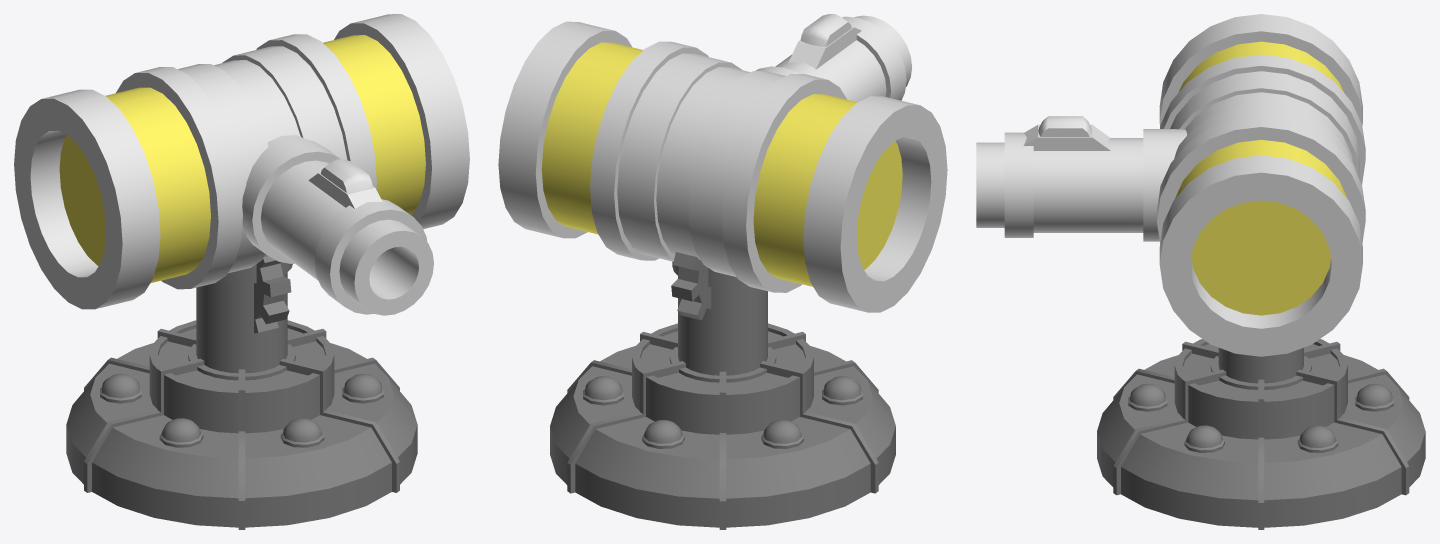
File: Mesh_EnemyBioTurret.fbx
3 renders of one model, left to right at view 1: azimuth 30°, elevation 25°; view 2: azimuth 150°, elevation 25°; view 3: azimuth 270°, elevation 25°, orthographic. The views are drawn at different scales.
Visible parts, largest first — view 1: Stand_floor, Body_out_rings, Body_out_vial, Body_inner_ring, Stand_connect, Stand_pole, Barrel_front, Stand_Dividers, Barrel_main, Bot_Lights, Barrel_Connect, Barrel_Ring (+4 smaller); view 2: Stand_floor, Body_out_rings, Body_inner_ring, Body_out_vial, Stand_connect, Stand_pole, Body_rotation, Stand_Dividers, Bot_Lights, Barrel_main, Gear_back, Barrel_Ring (+3 smaller); view 3: Stand_floor, Body_out_rings, Body_out_vial, Body_inner_ring, Stand_connect, Barrel_main, Stand_Dividers, Bot_Lights, Barrel_Ring, Barrel_Connect, Barrel_front, Stand_pole (+3 smaller).
Part boxes in pixels (x1=…): Stand_floor: x1=66, y1=343, x2=417, y2=527; Body_out_rings: x1=14, y1=14, x2=469, y2=309; Body_out_vial: x1=59, y1=35, x2=425, y2=283; Body_inner_ring: x1=116, y1=34, x2=376, y2=289; Stand_connect: x1=149, y1=320, x2=334, y2=433; Stand_pole: x1=196, y1=262, x2=292, y2=373; Barrel_front: x1=339, y1=219, x2=433, y2=315; Stand_Dividers: x1=84, y1=329, x2=399, y2=529; Barrel_main: x1=260, y1=160, x2=345, y2=280; Bot_Lights: x1=100, y1=373, x2=383, y2=447; Barrel_Connect: x1=242, y1=135, x2=340, y2=263; Barrel_Ring: x1=314, y1=199, x2=427, y2=314; Stand_floor: x1=550, y1=346, x2=895, y2=527; Body_out_rings: x1=498, y1=21, x2=947, y2=312; Body_inner_ring: x1=590, y1=41, x2=846, y2=292; Body_out_vial: x1=541, y1=42, x2=902, y2=286; Stand_connect: x1=632, y1=323, x2=813, y2=434; Stand_pole: x1=672, y1=261, x2=767, y2=375; Body_rotation: x1=656, y1=67, x2=750, y2=259; Stand_Dividers: x1=567, y1=331, x2=878, y2=529; Bot_Lights: x1=583, y1=376, x2=862, y2=448; Barrel_main: x1=775, y1=40, x2=886, y2=102; Gear_back: x1=671, y1=252, x2=711, y2=320; Barrel_Ring: x1=842, y1=16, x2=906, y2=100; Stand_floor: x1=1097, y1=355, x2=1425, y2=527; Body_out_rings: x1=1159, y1=14, x2=1362, y2=356; Body_out_vial: x1=1174, y1=41, x2=1347, y2=315; Body_inner_ring: x1=1157, y1=54, x2=1365, y2=243; Stand_connect: x1=1174, y1=339, x2=1347, y2=439; Barrel_main: x1=1033, y1=138, x2=1143, y2=232; Stand_Dividers: x1=1113, y1=341, x2=1409, y2=529; Bot_Lights: x1=1128, y1=383, x2=1393, y2=452; Barrel_Ring: x1=1004, y1=132, x2=1033, y2=237; Barrel_Connect: x1=1143, y1=129, x2=1187, y2=241; Barrel_front: x1=976, y1=142, x2=1004, y2=227; Stand_pole: x1=1218, y1=347, x2=1303, y2=383.
Bounding box in the file's own units: 510 × 552 × 611.
